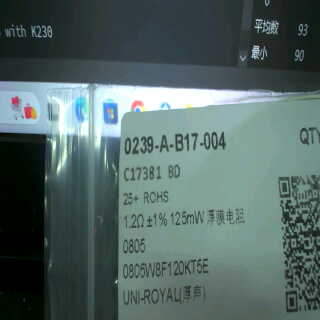1.2R: (122, 213, 148, 258)
